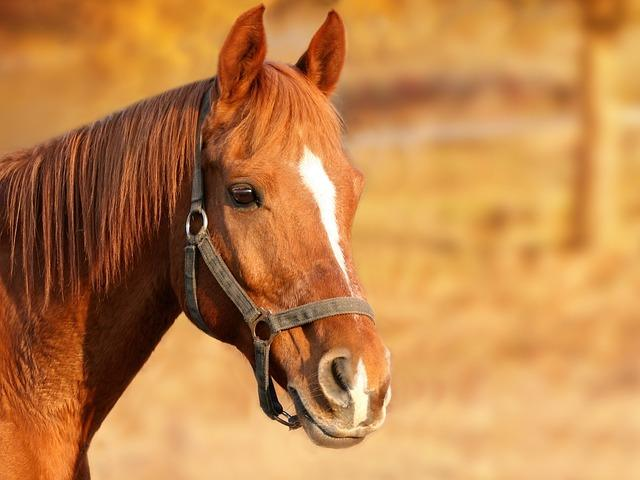Non_Gorille: (0, 3, 436, 460)
